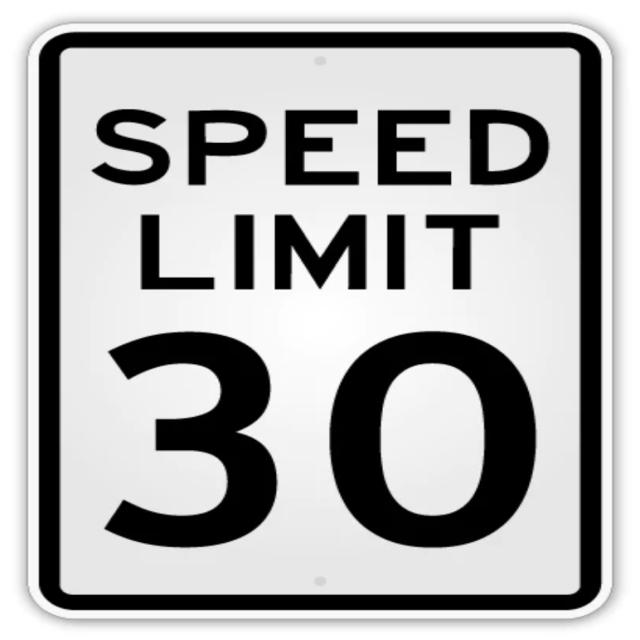speedLimit30: (54, 41, 590, 598)
